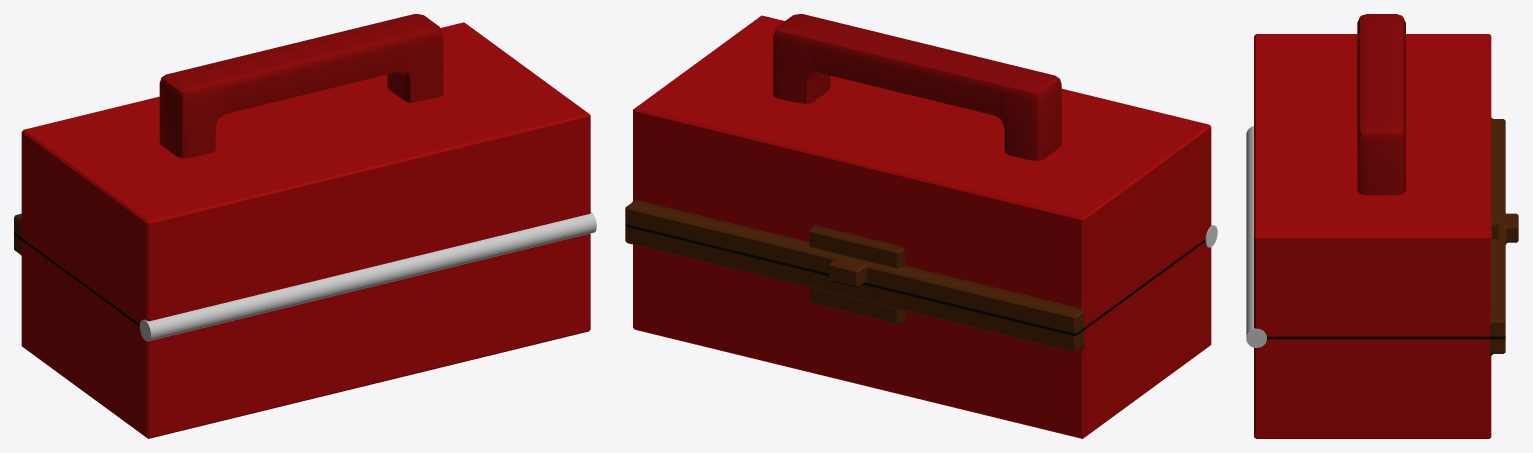
File: Toolbox Final.fbx
3 views of the same model, side by side, from view 1: azimuth 30°, elevation 25°; view 2: azimuth 150°, elevation 25°; view 3: azimuth 270°, elevation 25° (orthographic). The views are drawn at different scales.
Parts seen in each view (by area): view 1: pCube1, pCube2, pCylinder1; view 2: pCube1, pCube2; view 3: pCube1, pCube2, pCylinder1.
Boxes of the visible parts, left/top/right/bottom form: pCube1: left=14, top=22, right=590, bottom=438; pCube2: left=159, top=14, right=443, bottom=158; pCylinder1: left=139, top=212, right=596, bottom=341; pCube1: left=625, top=15, right=1211, bottom=438; pCube2: left=773, top=14, right=1061, bottom=160; pCube1: left=1254, top=34, right=1518, bottom=438; pCube2: left=1357, top=14, right=1405, bottom=195; pCylinder1: left=1246, top=126, right=1266, bottom=347.
Size of the model in its own units: 0.9484 by 0.5814 by 0.537.
